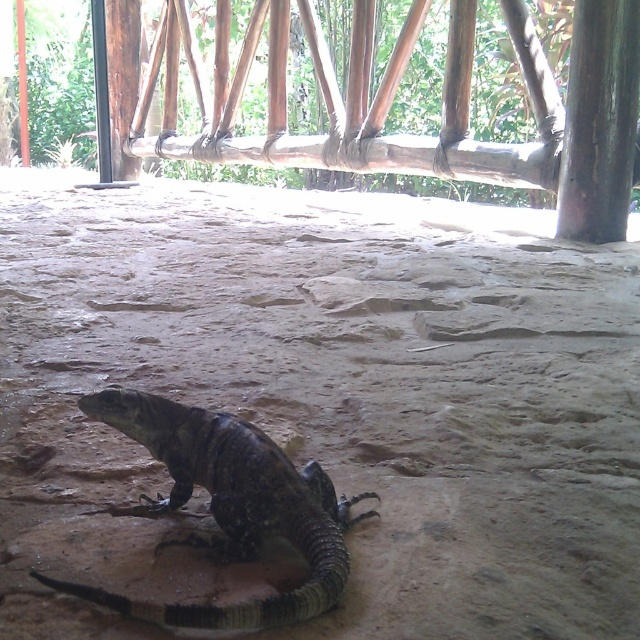Lizard: (34, 385, 378, 628)
